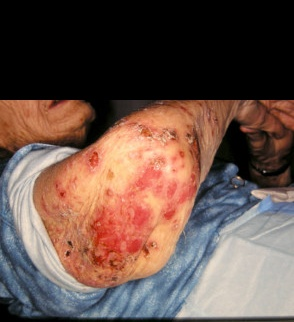SJS-TEN: (6, 54, 282, 315)
